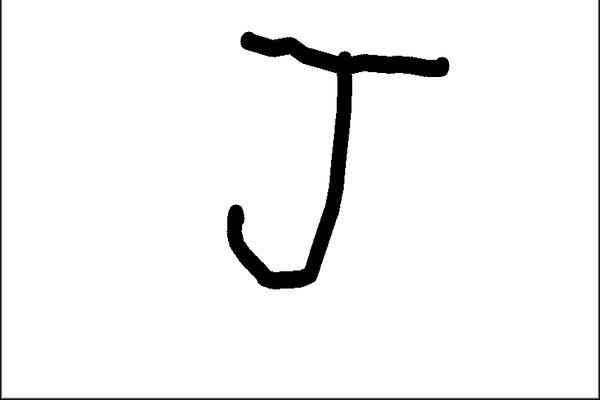J: (216, 29, 452, 291)
